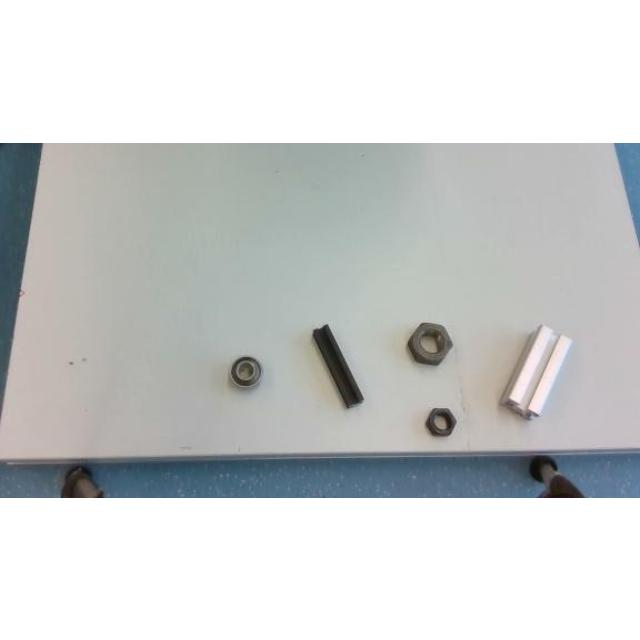Bearing2: (230, 355, 262, 387)
F20_20_B: (312, 324, 363, 406)
M20: (425, 406, 457, 436)
M30: (408, 322, 450, 363)
S40_40_G: (501, 324, 572, 418)
